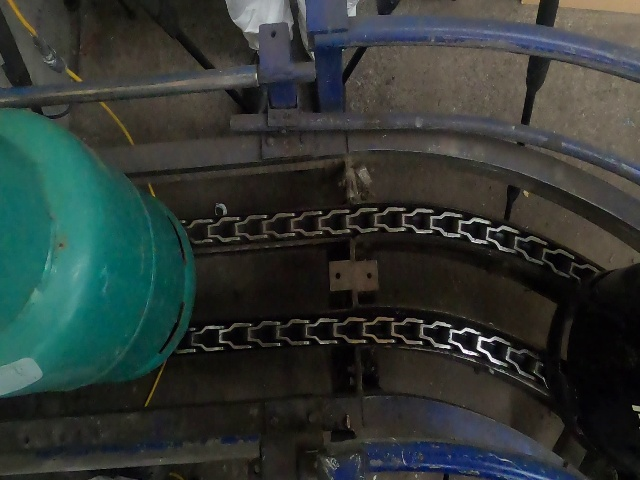gas_bottle: (5, 1, 640, 480)
